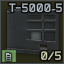Orsis T-5000M .308 5-round magazine: (0, 0, 64, 64)
